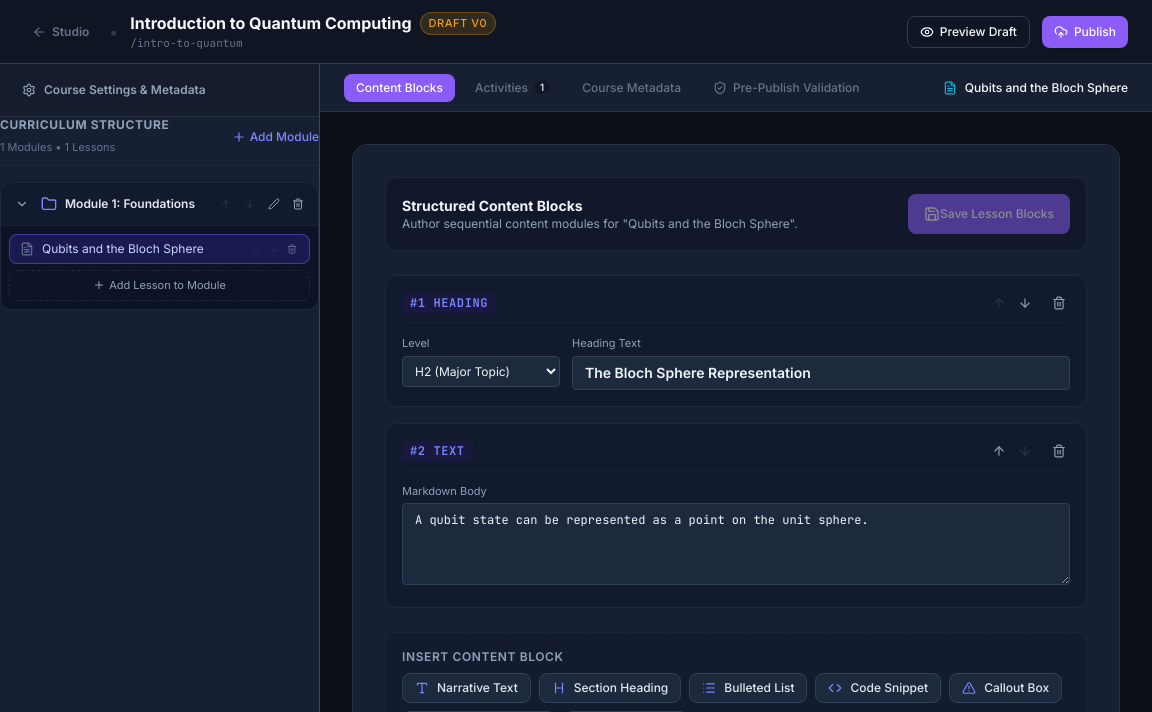
Test: Phase 7 Creator Studio & Course Authoring › Course Authoring Workspace (CourseEditorPage) › allows publishing course when validation passes with changelog confirmation
Check: the heading "Introduction to Quantum Computing" is shown, box [130,11,412,35]
# Click top Publish button
Click the button "Publish": (1085, 32) [1042,16,1128,48]
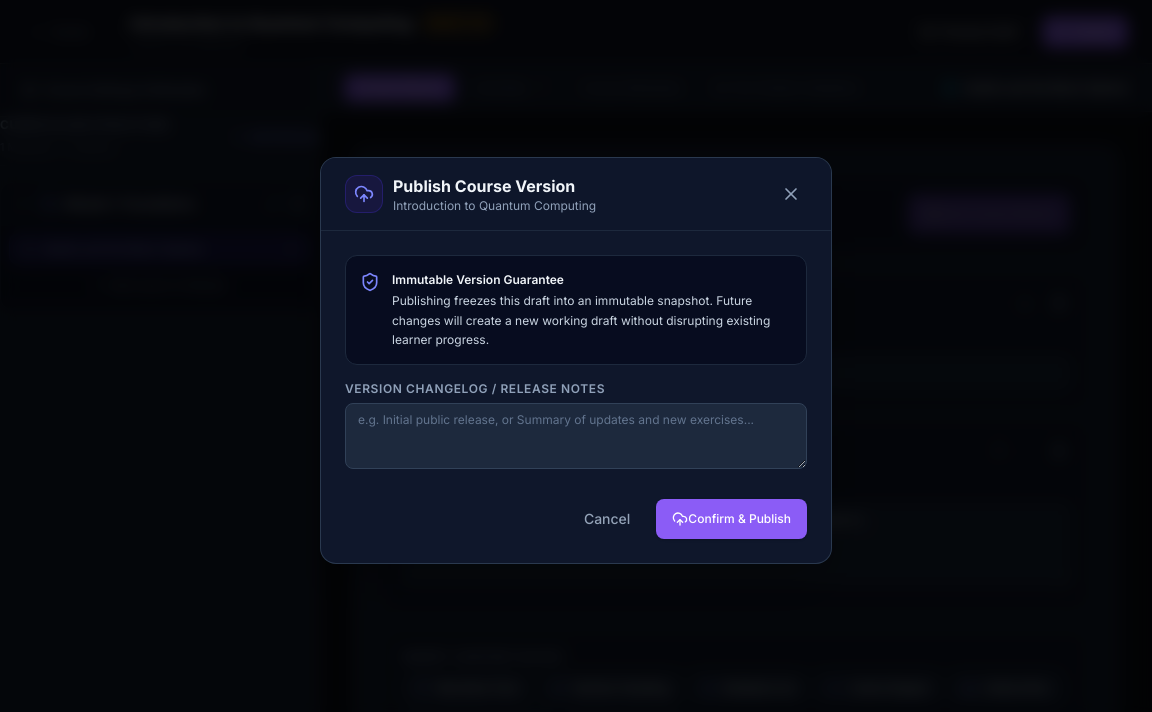
Check: the heading "Publish Course Version" is shown, box [393,174,596,198]
# Type changelog and confirm publication
Replace the text in the text box with placeholder "Initial public release" with "First official quantum release": (576, 436) [345,402,807,468]
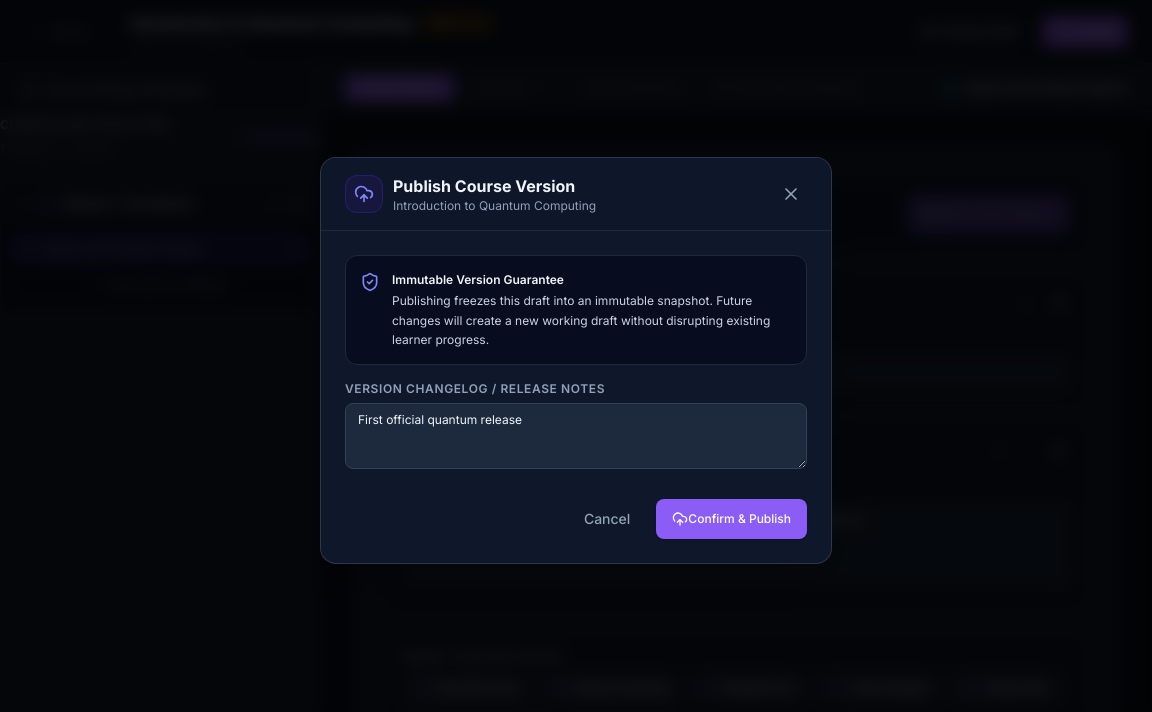
Click the button "Confirm & Publish": (732, 518) [656,498,807,538]
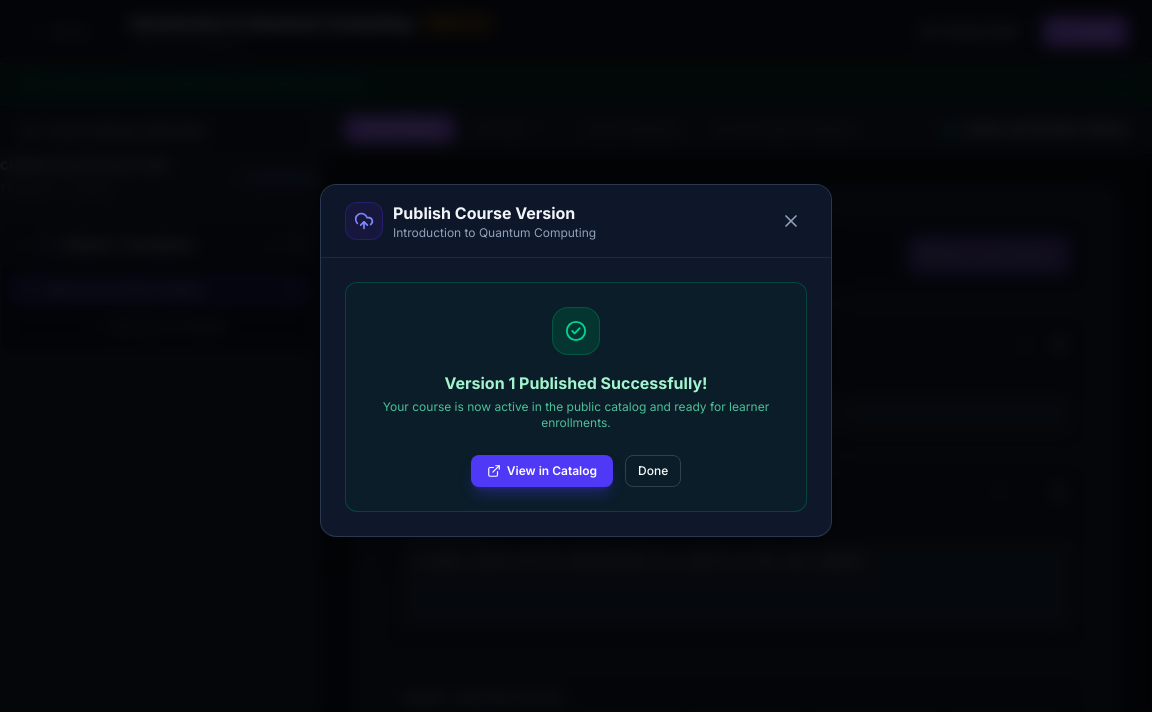
Check: the heading "Version 1 Published Successfully!" is shown, box [444,372,707,392]
